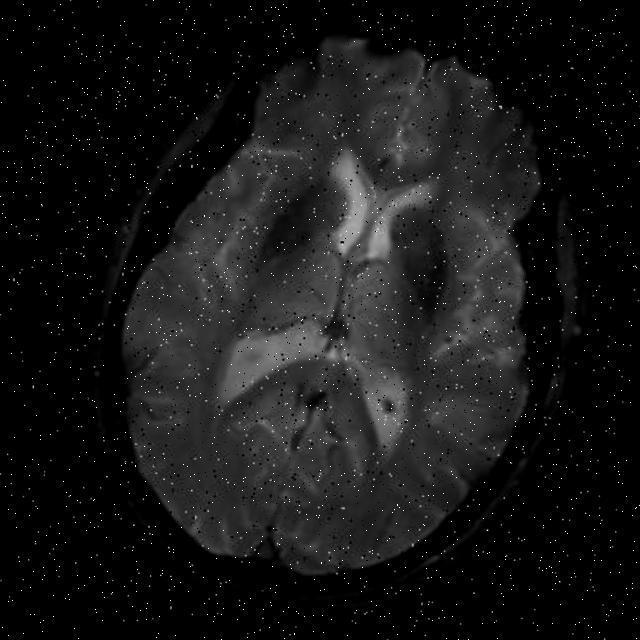EMCI: (178, 116, 342, 316), (332, 175, 493, 368)
